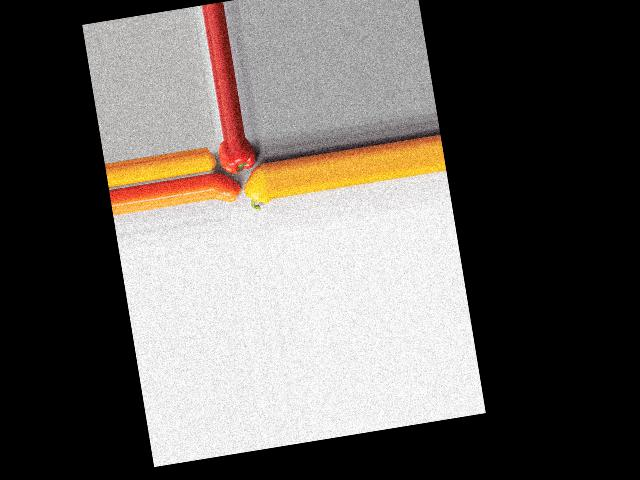bell_pepper: (216, 136, 259, 176)
